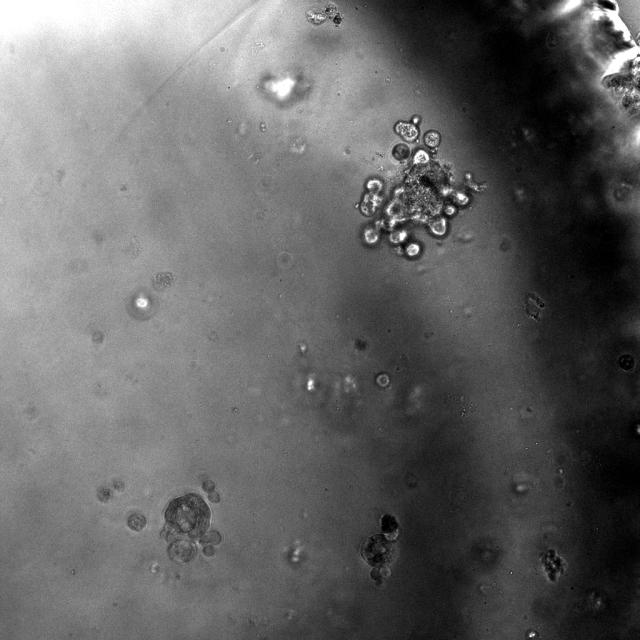organoid: (355, 114, 491, 259), (160, 492, 223, 565), (360, 514, 401, 587), (602, 54, 639, 115), (307, 3, 342, 25), (541, 549, 564, 581), (201, 477, 221, 503), (127, 512, 146, 532)
